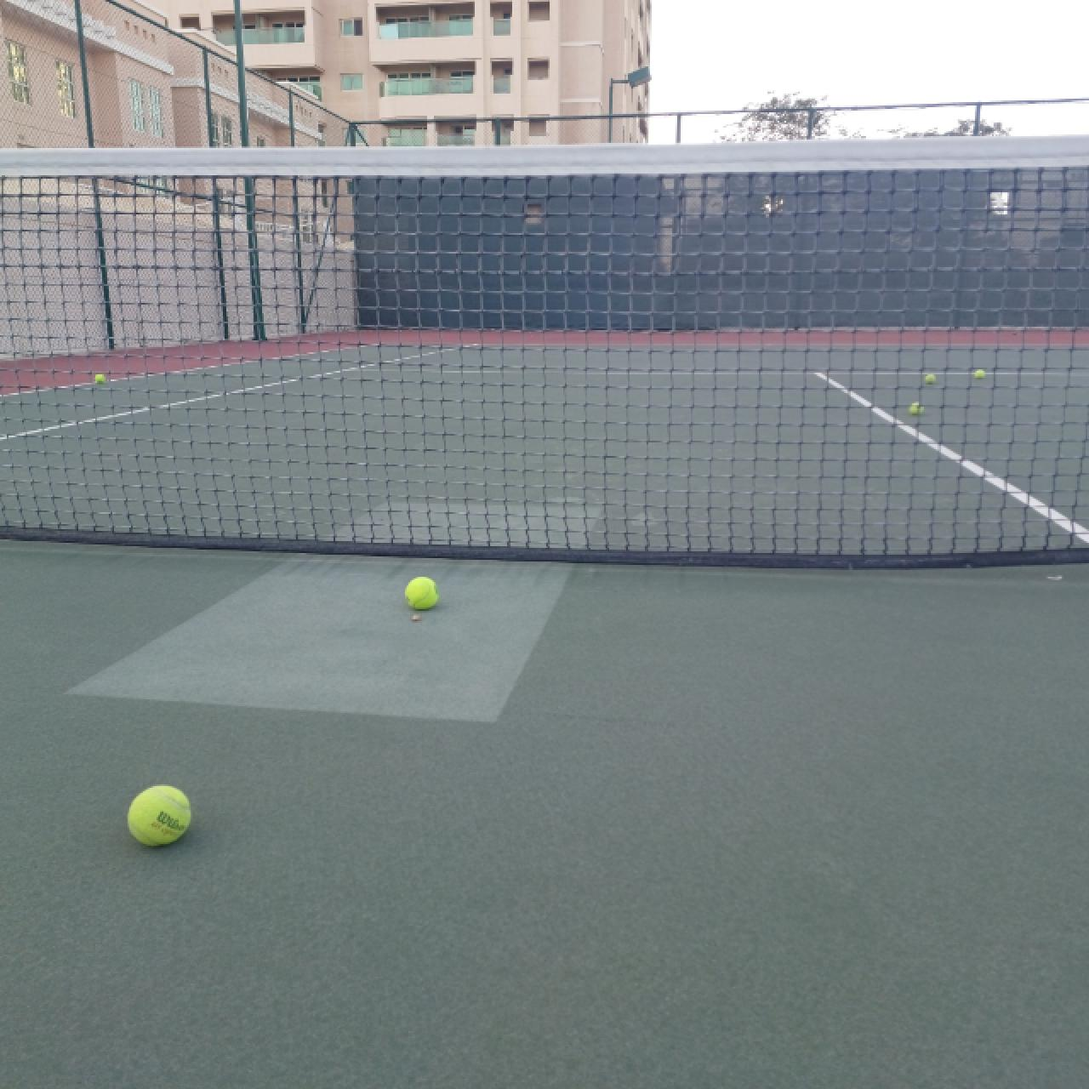tennis-ball: (127, 784, 192, 847), (404, 576, 440, 611), (909, 401, 925, 417), (924, 373, 937, 386), (974, 368, 987, 381), (94, 373, 107, 386)
